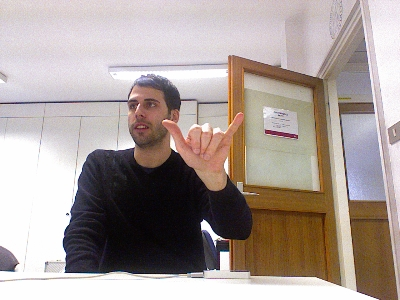六六六: (160, 111, 245, 174)
